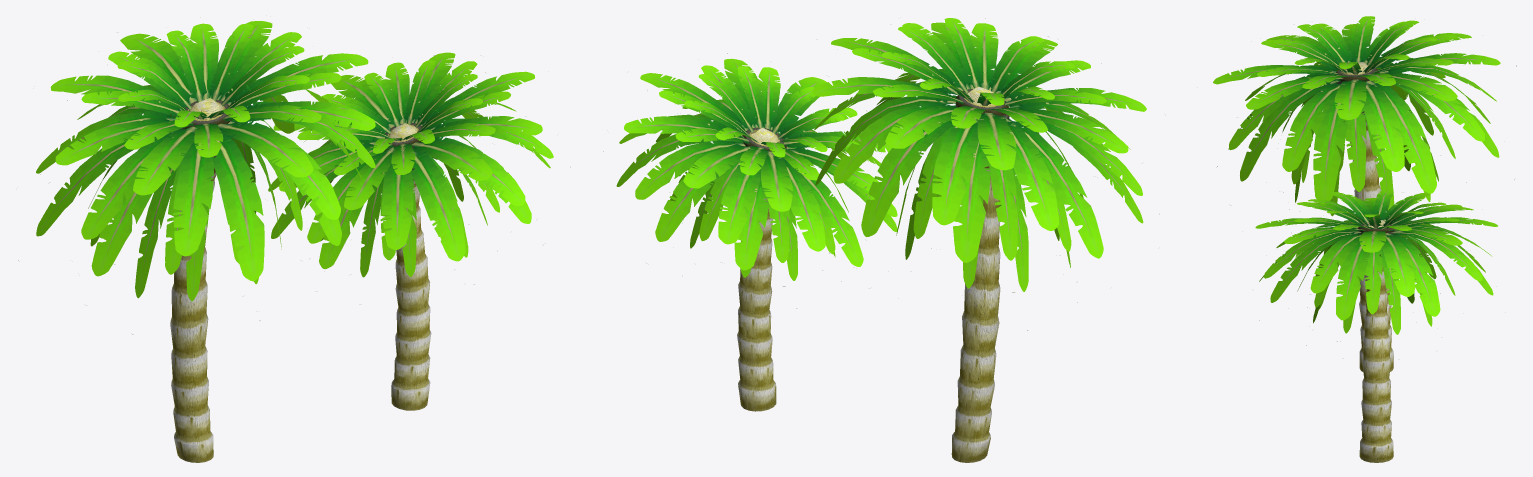
The model's file is palmeras.glb.
The picture shows the model from 3 angles, left to right: view 1: azimuth 30°, elevation 25°; view 2: azimuth 150°, elevation 25°; view 3: azimuth 270°, elevation 25°; orthographic projection. The views are drawn at different scales.
Visible parts, largest first — view 1: Mesh (2) (2), Mesh (2); view 2: Mesh (2) (2), Mesh (2); view 3: Mesh (2) (2), Mesh (2).
Part boxes in pixels (bbox=[...]): Mesh (2) (2): bbox=[18, 21, 392, 462]; Mesh (2): bbox=[268, 52, 570, 410]; Mesh (2) (2): bbox=[794, 18, 1159, 462]; Mesh (2): bbox=[603, 53, 897, 411]; Mesh (2) (2): bbox=[1213, 16, 1516, 371]; Mesh (2): bbox=[1255, 189, 1497, 462].
Size of the model in its own units: 1552 by 1143 by 987.
2 materials, 2 textured.
